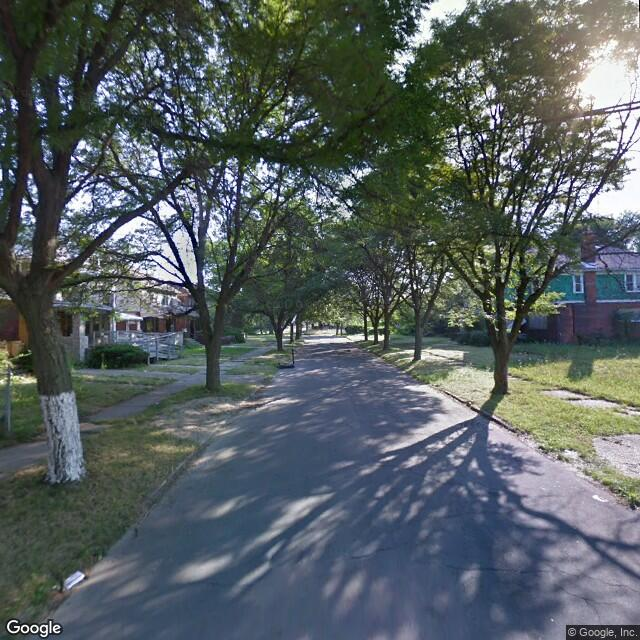litter: (48, 562, 89, 596)
